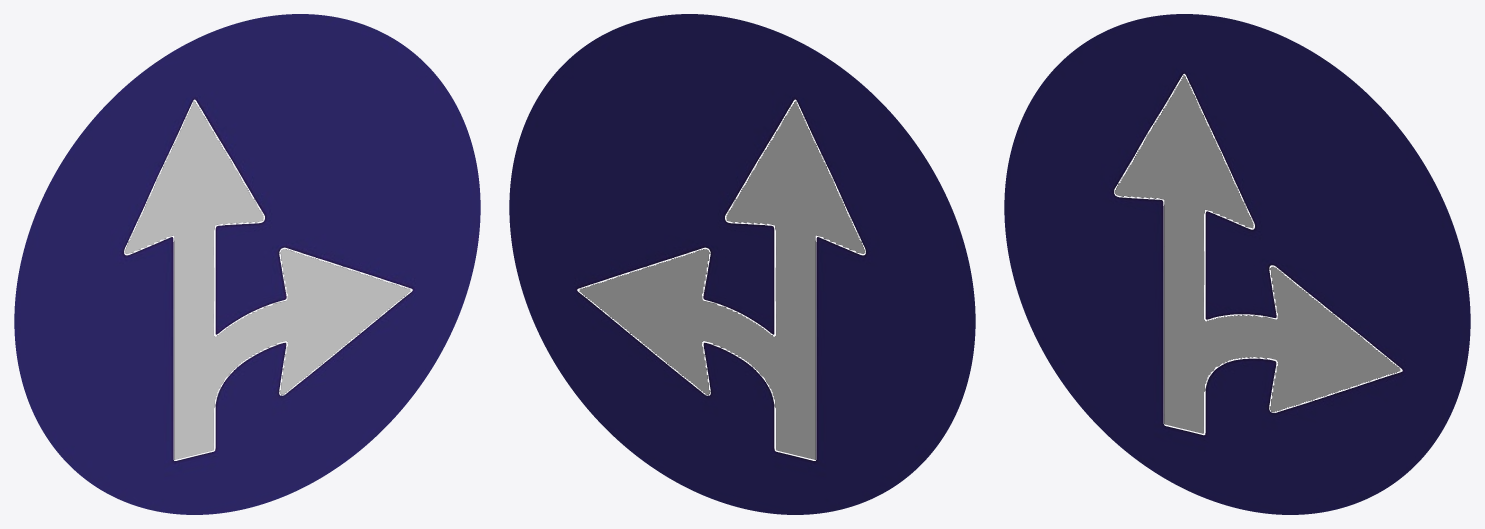
The model's file is ileri-ve-saga-mecburi-yon.dae.
3 views of the same model, side by side, from view 1: azimuth 30°, elevation 25°; view 2: azimuth 150°, elevation 25°; view 3: azimuth 330°, elevation 25° (orthographic).
Parts seen in each view (by area): view 1: Circle; view 2: Circle; view 3: Circle.
Part boxes in pixels (box(x1,y1,x2,y2)): Circle: box(14, 14, 480, 514); Circle: box(509, 14, 975, 514); Circle: box(1004, 14, 1470, 514).
Bounding box in the file's own units: 0.24 × 1.05e-08 × 0.24.
